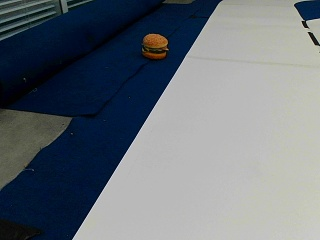burger: (141, 32, 168, 58)
